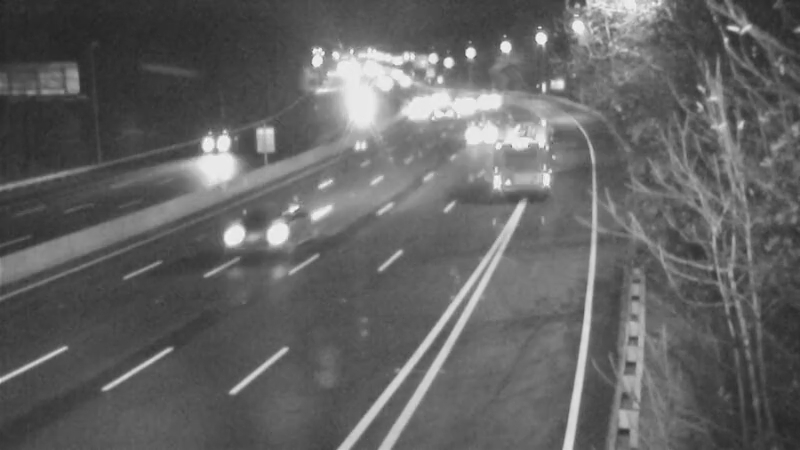vehicle: (479, 115, 559, 195), (221, 191, 301, 271), (461, 76, 511, 126), (440, 81, 490, 131), (398, 85, 448, 135), (413, 91, 463, 141), (449, 110, 499, 160), (183, 113, 233, 163)
